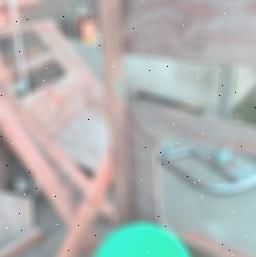algae: (88, 218, 197, 257)
